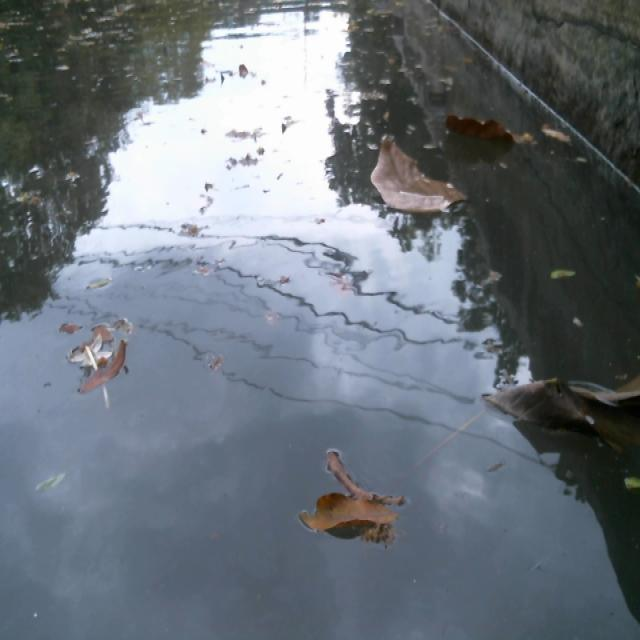Big-leaf: (478, 357, 640, 465), (348, 130, 473, 228), (302, 443, 404, 561), (430, 99, 535, 150)
Small-leaf: (78, 337, 130, 402), (538, 115, 578, 149), (550, 265, 582, 291)
